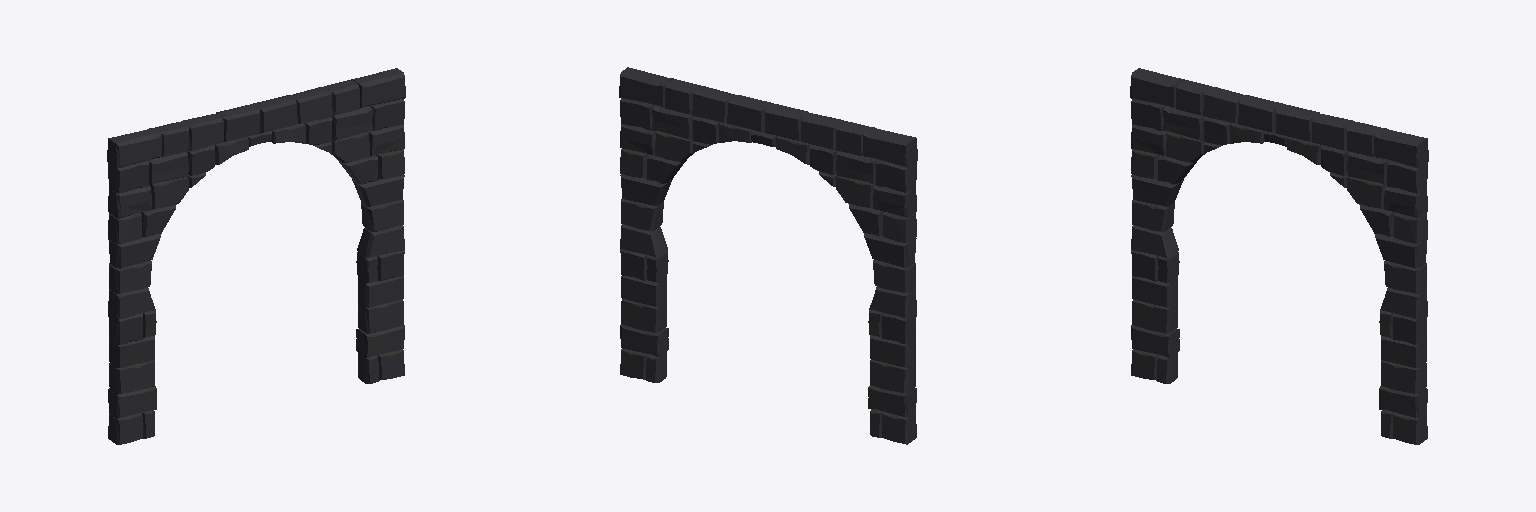
3 renders of one model, left to right at view 1: azimuth 30°, elevation 25°; view 2: azimuth 150°, elevation 25°; view 3: azimuth 330°, elevation 25°, orthographic.
Parts seen in each view (by area): view 1: Wall_ArchRound_Cube.042; view 2: Wall_ArchRound_Cube.042; view 3: Wall_ArchRound_Cube.042.
Part boxes in pixels (x1,y1,x2,y2): Wall_ArchRound_Cube.042: (107, 68, 405, 444); Wall_ArchRound_Cube.042: (619, 67, 917, 444); Wall_ArchRound_Cube.042: (1130, 68, 1428, 444).
Bounding box in the file's own units: 4 × 3.99 × 0.31.
Materials: 2 (1 with a texture image).